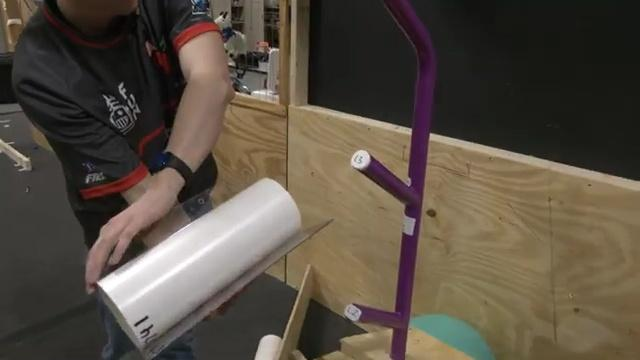CORAL: (94, 175, 305, 358)
